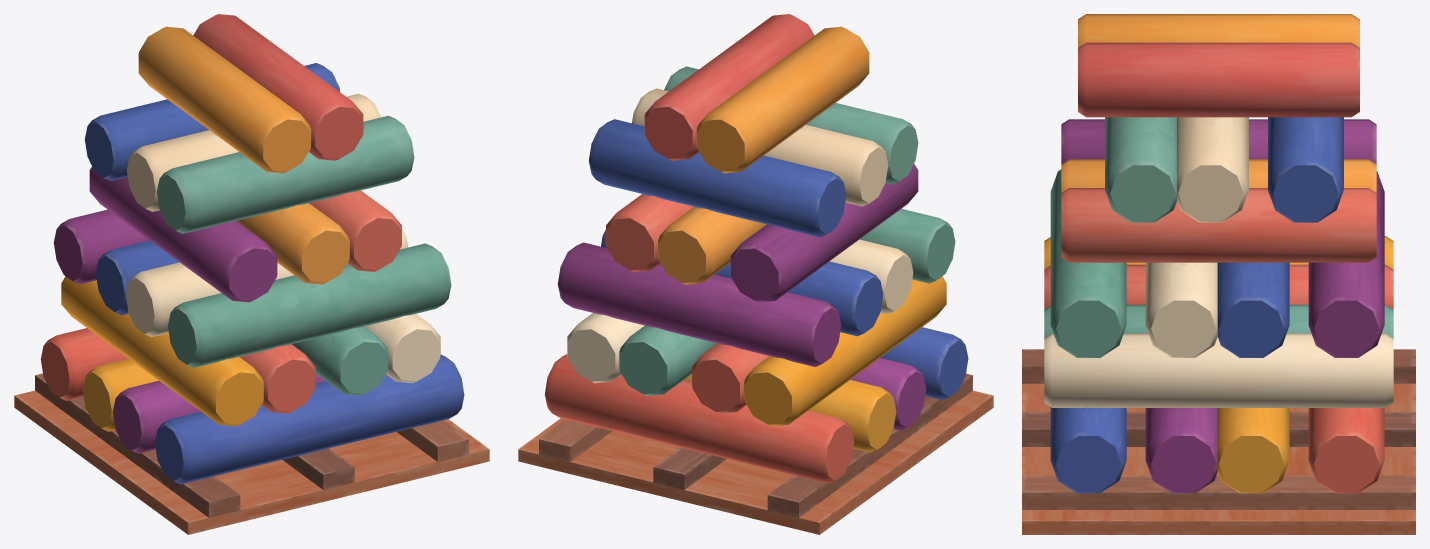
Rendered from bolts.fbx.
The picture shows the model from 3 angles, left to right: view 1: azimuth 30°, elevation 25°; view 2: azimuth 150°, elevation 25°; view 3: azimuth 270°, elevation 25°; orthographic projection. The views are drawn at different scales.
Parts seen in each view (by area): view 1: bolts; view 2: bolts; view 3: bolts.
Boxes of the visible parts, bbox=[...] form: bolts: bbox=[14, 14, 489, 534]; bolts: bbox=[518, 14, 993, 534]; bolts: bbox=[1022, 14, 1415, 534].
Size of the model in its own units: 5.8 by 6.83 by 5.8.
1 material, 1 textured.
